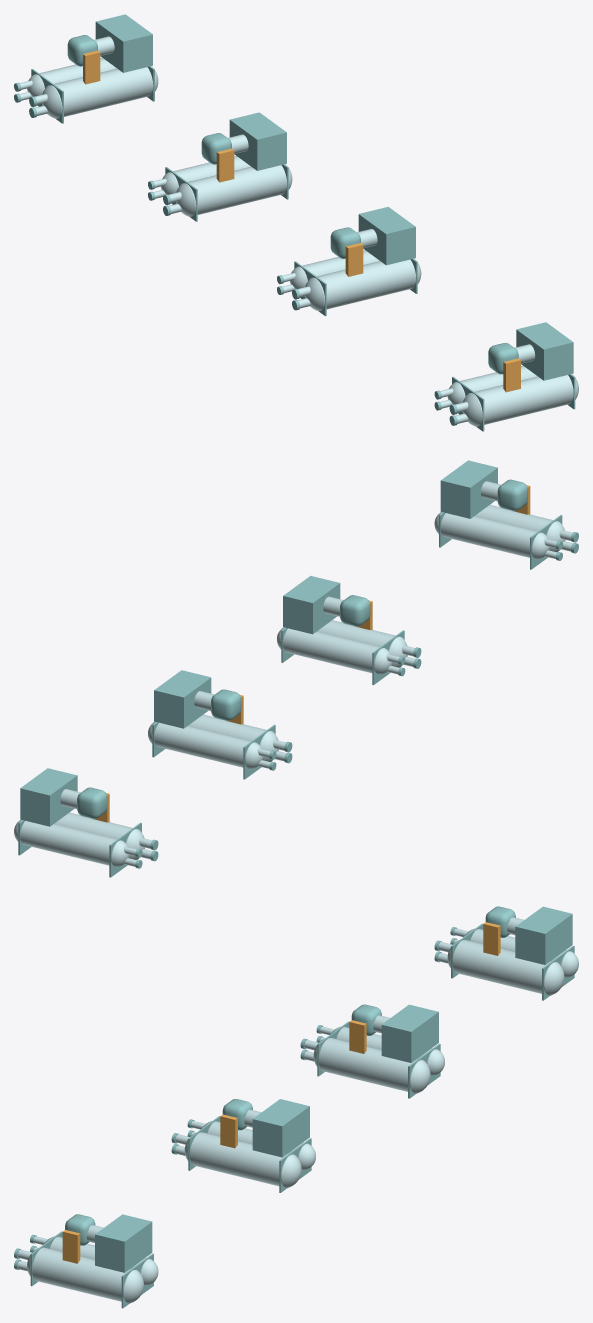
File: pumprod.gltf
The picture shows the model from 3 angles, top to bottom: view 1: azimuth 30°, elevation 25°; view 2: azimuth 150°, elevation 25°; view 3: azimuth 330°, elevation 25°; orthographic projection.
Parts seen in each view (by area): view 1: pumprod (1), pumprod (19), pumprod062, pumprod004, pumprod065, pumprod (22), pumprod005, pumprod (4), pumprod (21), pumprod (3), pumprod003, pumprod064 (+8 smaller); view 2: pumprod (3), pumprod (21), pumprod003, pumprod064, pumprod065, pumprod005, pumprod (4), pumprod (22), pumprod062, pumprod (1), pumprod (19), pumprod004 (+4 smaller); view 3: pumprod (19), pumprod062, pumprod (1), pumprod004, pumprod (4), pumprod065, pumprod005, pumprod (22), pumprod003, pumprod (3), pumprod (21), pumprod064 (+8 smaller).
Boxes of the visible parts, bbox=[...] form: pumprod (1): bbox=[176, 164, 292, 216]; pumprod (19): bbox=[304, 258, 421, 311]; pumprod062: bbox=[462, 374, 578, 426]; pumprod004: bbox=[42, 66, 158, 118]; pumprod065: bbox=[516, 322, 573, 380]; pumprod (22): bbox=[358, 206, 415, 265]; pumprod005: bbox=[95, 14, 152, 72]; pumprod (4): bbox=[229, 112, 286, 170]; pumprod (21): bbox=[290, 250, 379, 288]; pumprod (3): bbox=[161, 156, 250, 194]; pumprod003: bbox=[27, 58, 116, 96]; pumprod064: bbox=[447, 366, 537, 404]; pumprod (3): bbox=[148, 721, 263, 769]; pumprod (21): bbox=[277, 627, 392, 674]; pumprod003: bbox=[14, 819, 129, 867]; pumprod064: bbox=[434, 512, 549, 559]; pumprod065: bbox=[440, 460, 497, 518]; pumprod005: bbox=[20, 768, 77, 826]; pumprod (4): bbox=[154, 670, 211, 728]; pumprod (22): bbox=[283, 575, 340, 634]; pumprod062: bbox=[475, 504, 565, 552]; pumprod (1): bbox=[188, 714, 278, 761]; pumprod (19): bbox=[317, 620, 407, 667]; pumprod004: bbox=[54, 812, 144, 859]; pumprod (19): bbox=[184, 1132, 301, 1187]; pumprod062: bbox=[27, 1247, 143, 1303]; pumprod (1): bbox=[313, 1038, 430, 1093]; pumprod004: bbox=[447, 940, 564, 995]; pumprod (4): bbox=[381, 1004, 438, 1062]; pumprod065: bbox=[95, 1214, 152, 1272]; pumprod005: bbox=[515, 906, 572, 964]; pumprod (22): bbox=[252, 1099, 309, 1157]; pumprod003: bbox=[465, 928, 578, 977]; pumprod (3): bbox=[331, 1026, 444, 1075]; pumprod (21): bbox=[202, 1121, 315, 1170]; pumprod064: bbox=[45, 1236, 158, 1285].
Bounding box in the file's own units: 24.59 × 12.37 × 154.
Materials: 3 (3 with a texture image).
